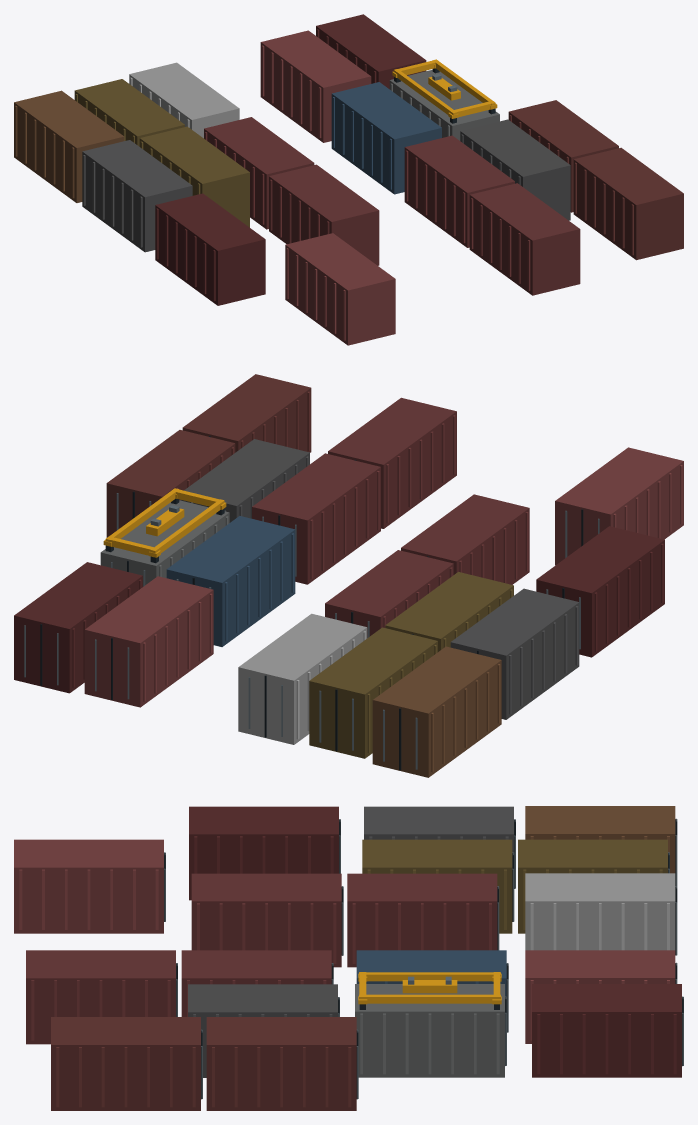
File: containers-n-s-04.glb
The picture shows the model from 3 angles, top to bottom: view 1: azimuth 30°, elevation 25°; view 2: azimuth 150°, elevation 25°; view 3: azimuth 270°, elevation 25°; orthographic projection. The views are drawn at different scales.
Visible parts, largest first — view 1: containers-n-s-04; view 2: containers-n-s-04; view 3: containers-n-s-04.
Boxes of the visible parts, x1=… form: containers-n-s-04: x1=14, y1=14, x2=683, y2=345; containers-n-s-04: x1=14, y1=374, x2=683, y2=777; containers-n-s-04: x1=14, y1=806, x2=683, y2=1110.
Size of the model in its own units: 50.02 by 8.25 by 58.96.
